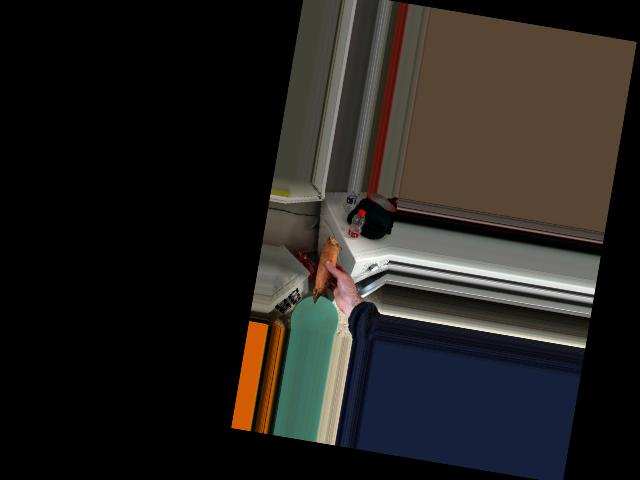sweet_potato: (312, 242, 344, 305)
